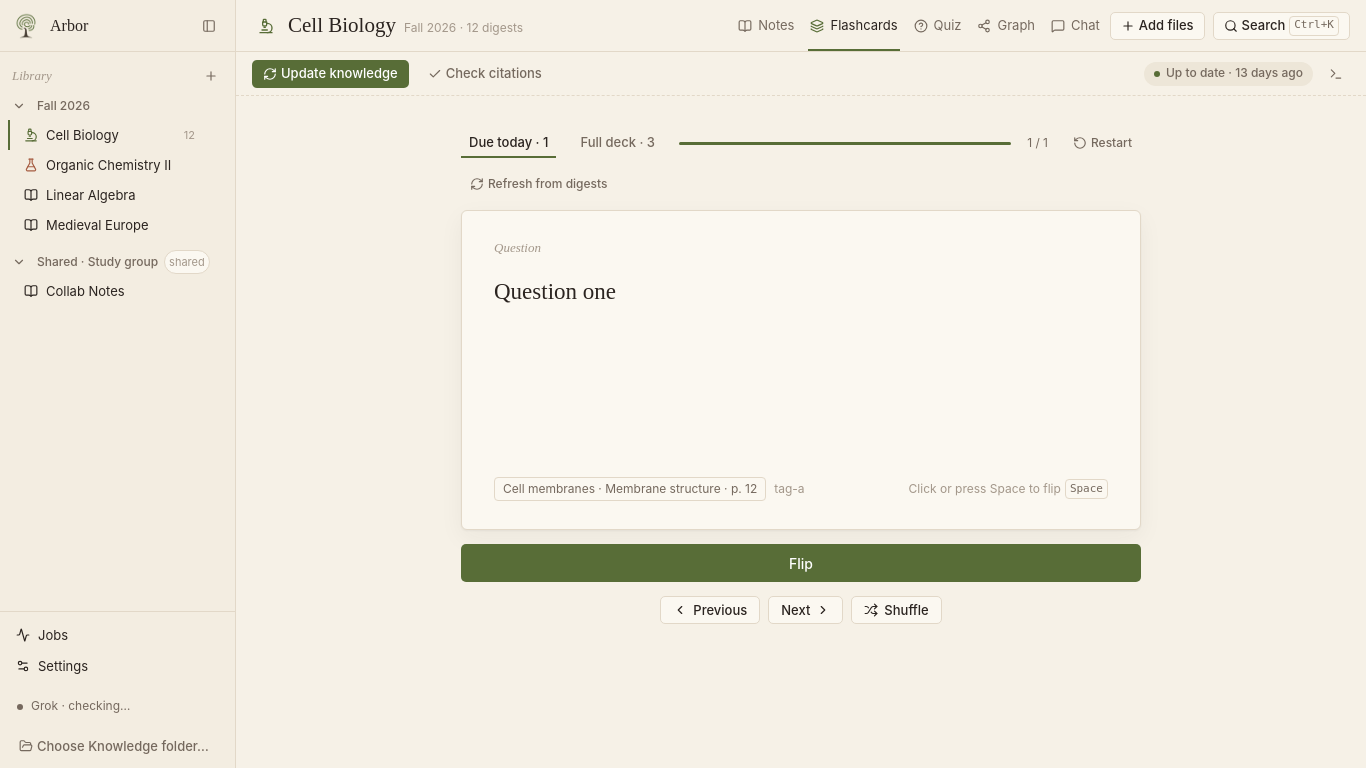
flashcards PR8 › due mastered drops due count
Check: the tab "Due today · 1" is shown, box [461,128,556,158]
What coordinates should you click on to do the following:
click the button "Flip"
I would click on:
 (801, 563)
Its box is [461,544,1141,582].
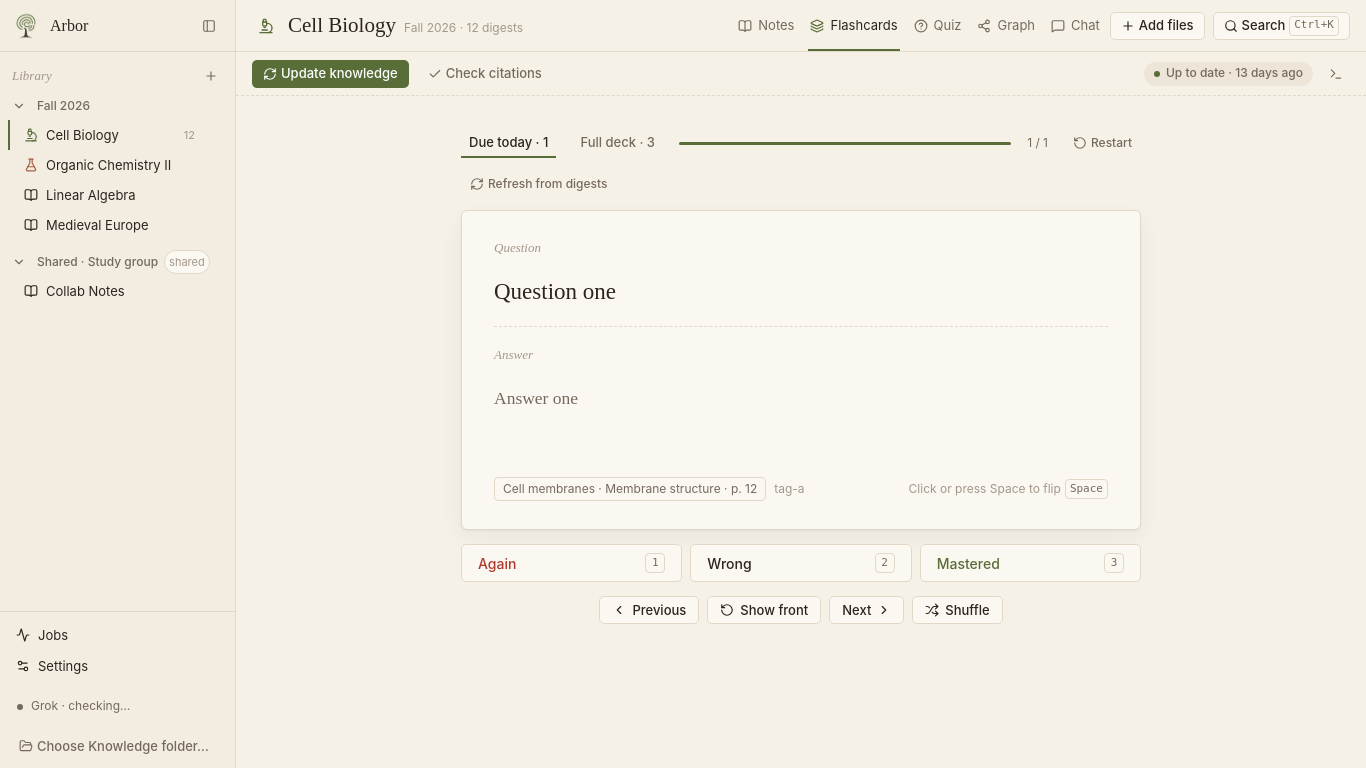
What coordinates should you click on to do the following:
click the button "Mastered 3"
I would click on:
 (1030, 563)
Its box is [920,544,1141,582].
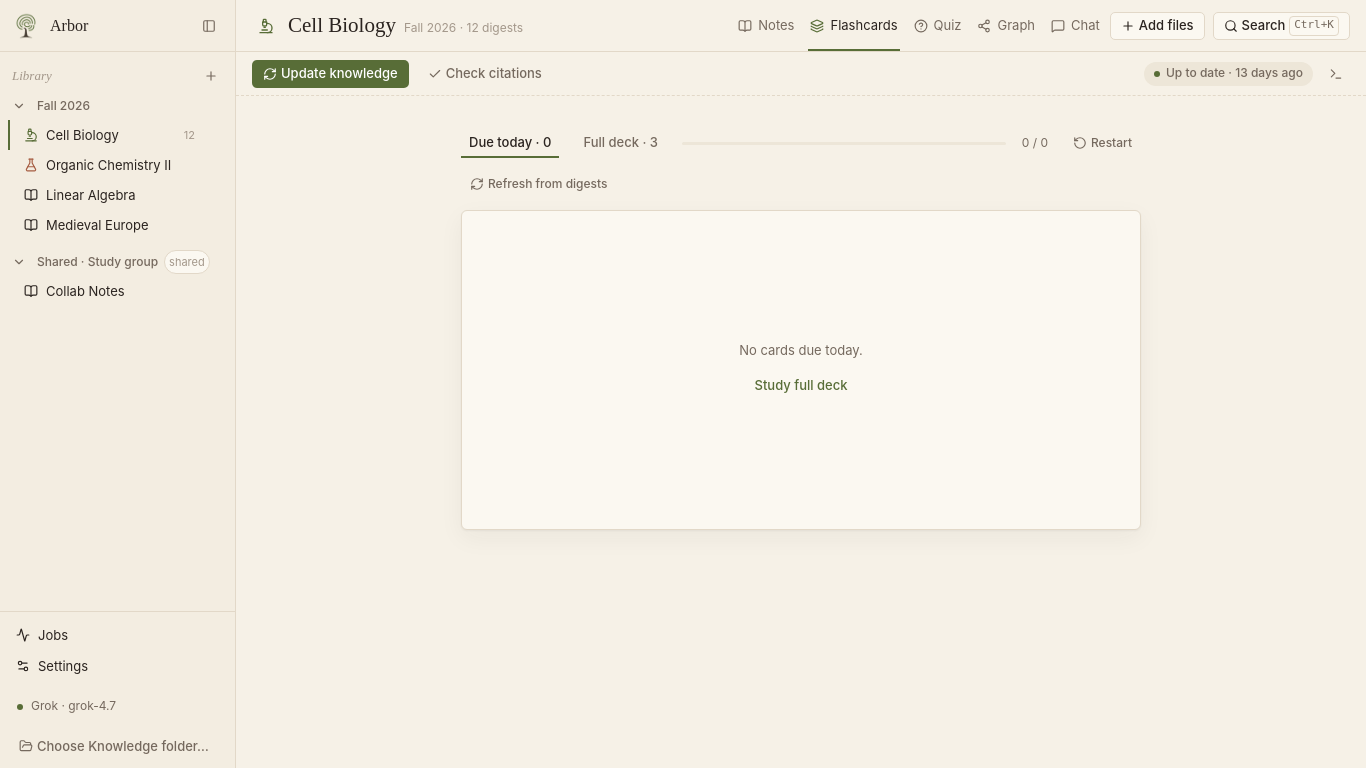
Check: the text "No cards due today." is shown, box [739,341,863,359]
Check: the tab "Due today · 0" is shown, box [461,128,559,158]
